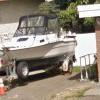Boat: (1, 4, 79, 88)
